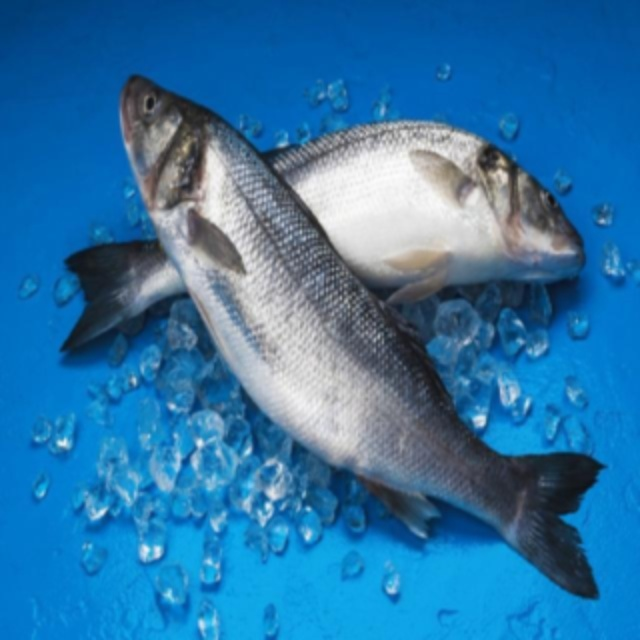Healthy Fish: (51, 64, 610, 605)
